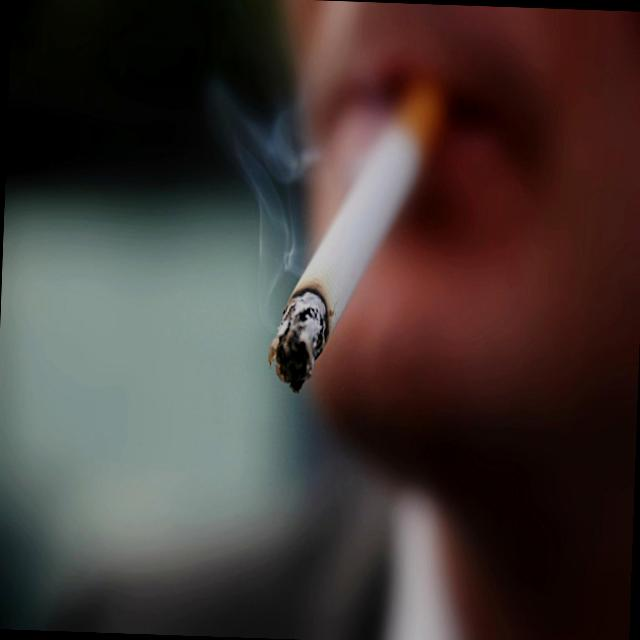cigarette: (268, 68, 450, 400)
